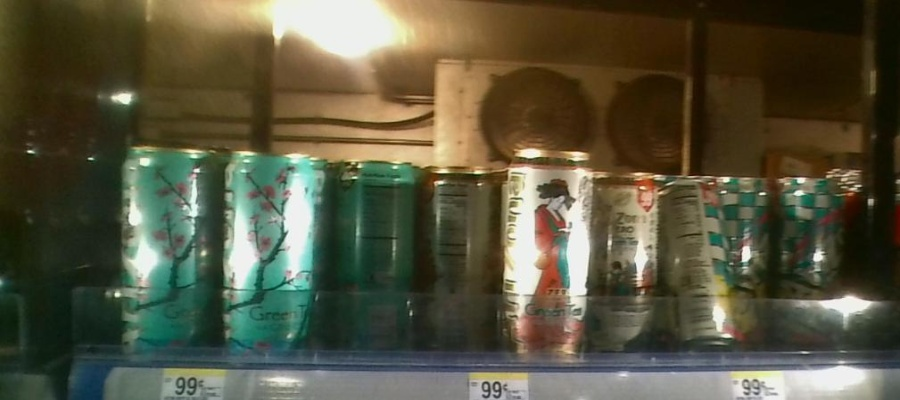bottle: (218, 144, 330, 362), (501, 143, 595, 369), (116, 142, 214, 348), (337, 144, 416, 360), (417, 158, 499, 354), (596, 162, 663, 356), (663, 173, 730, 353), (779, 168, 844, 352), (728, 170, 776, 360)
